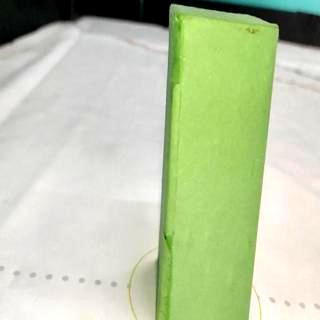greenbox: (156, 0, 278, 320)
